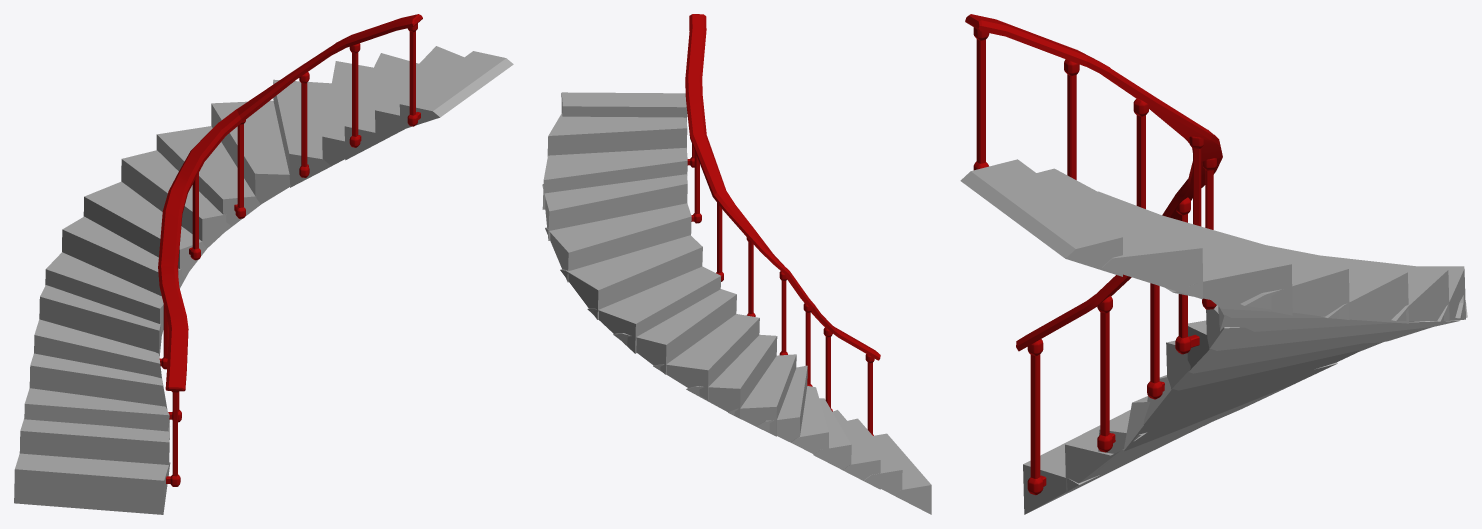
The model's file is Asset_stairs.fbx.
The picture shows the model from 3 angles, left to right: view 1: azimuth 30°, elevation 25°; view 2: azimuth 150°, elevation 25°; view 3: azimuth 270°, elevation 25°; orthographic projection. The views are drawn at different scales.
Parts seen in each view (by area): view 1: polySurface52, polySurface58, polySurface105, polySurface84; view 2: polySurface58, polySurface52, polySurface84, polySurface105; view 3: polySurface58, polySurface52, polySurface105, polySurface84.
Boxes of the visible parts, bbox=[...] form: polySurface52: bbox=[14, 181, 206, 514]; polySurface58: bbox=[121, 46, 513, 248]; polySurface105: bbox=[158, 122, 224, 486]; polySurface84: bbox=[201, 14, 422, 218]; polySurface58: bbox=[542, 92, 736, 374]; polySurface52: bbox=[653, 314, 931, 514]; polySurface84: bbox=[685, 14, 744, 281]; polySurface105: bbox=[724, 205, 880, 435]; polySurface58: bbox=[960, 159, 1465, 323]; polySurface52: bbox=[1023, 302, 1467, 514]; polySurface105: bbox=[1016, 134, 1222, 495]; polySurface84: bbox=[965, 14, 1222, 226].
Size of the model in its own units: 25.89 by 24.1 by 16.59.
